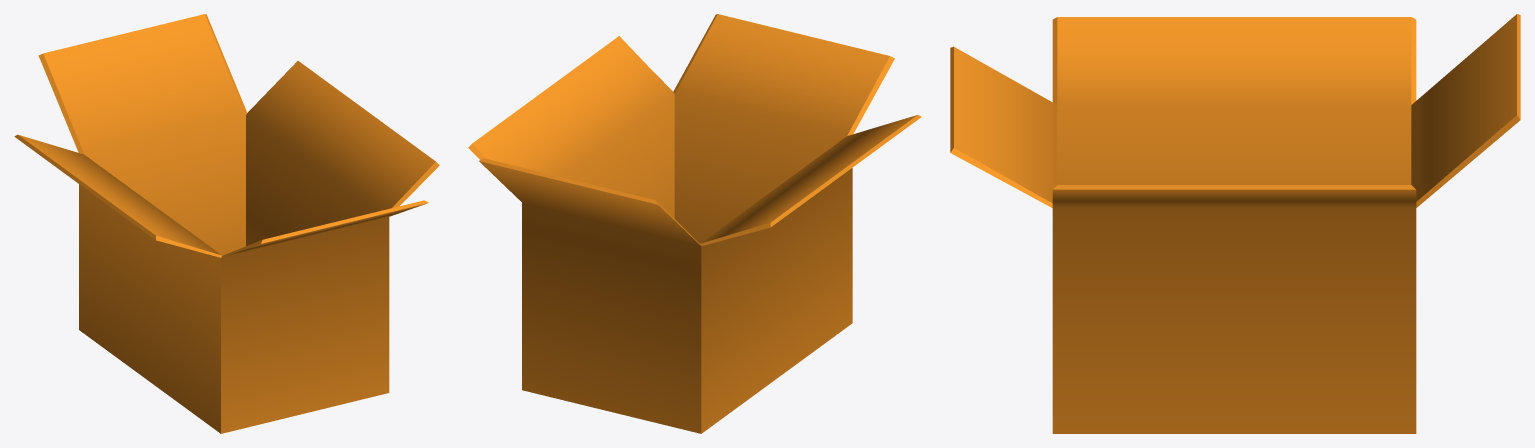
The model's file is KartonKutu.fbx.
3 renders of one model, left to right at view 1: azimuth 30°, elevation 25°; view 2: azimuth 150°, elevation 25°; view 3: azimuth 270°, elevation 25°, orthographic. The views are drawn at different scales.
Parts seen in each view (by area): view 1: kartonkutu1; view 2: kartonkutu1; view 3: kartonkutu1.
Part boxes in pixels (box(x1,y1,x2,y2)): kartonkutu1: box(14, 14, 439, 433); kartonkutu1: box(468, 14, 921, 433); kartonkutu1: box(950, 14, 1520, 433).
Size of the model in its own units: 45.38 by 37.76 by 61.58.
